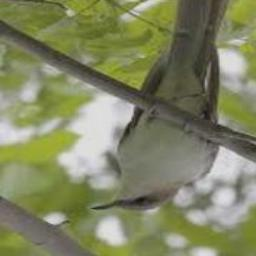Cuckoo: (92, 0, 236, 212)
